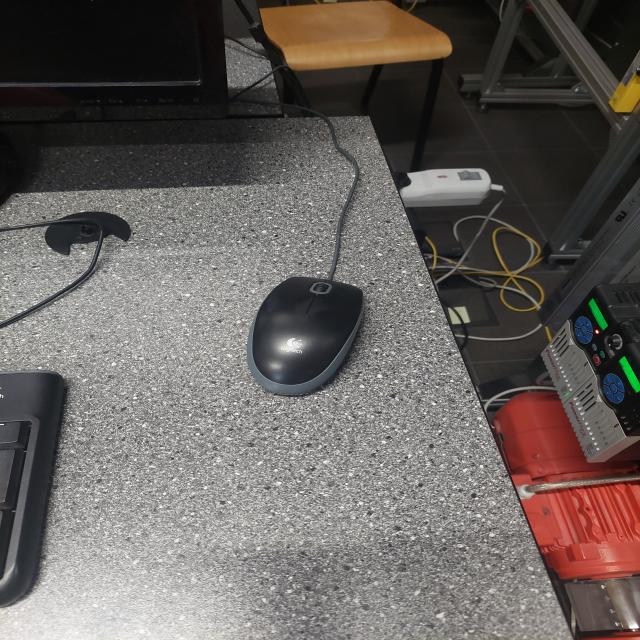mysz: (230, 269, 386, 400)
